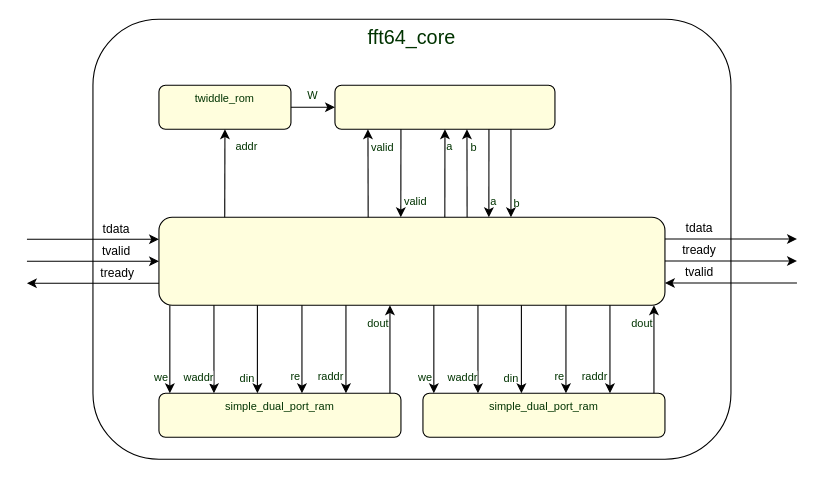
This 825x479 diagram has some shape labels left out. The centre of each missing label's shape, as x and y in pixels:
fft64_controller: the point at 411,260
radix2_butterfly: the point at 444,106
